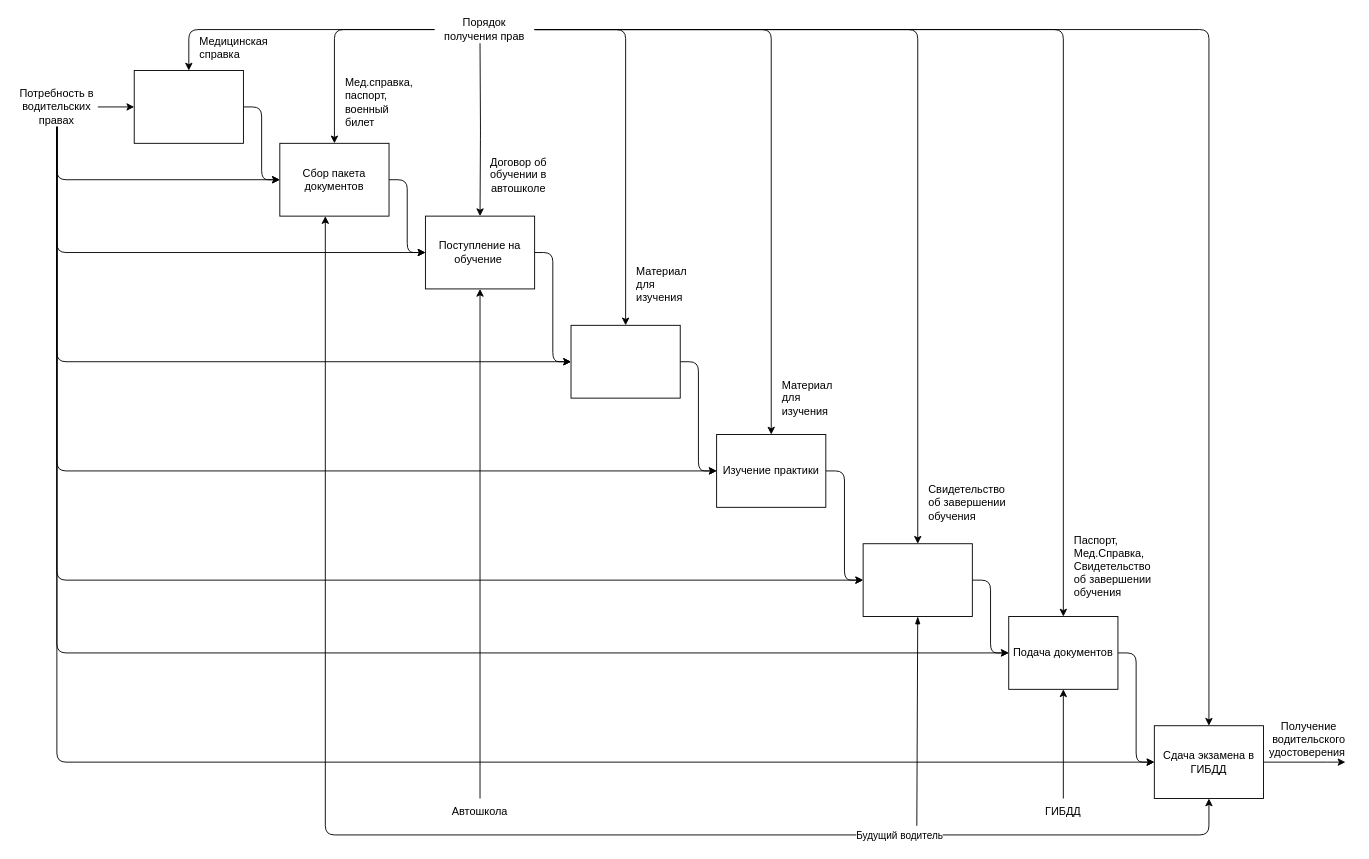
Some shapes in this 1369 by 859 pixel diagram are drawn without their labels. The centre of each missing label's shape, as x and y in pixels:
"Изучение теории" belongs at (625,361).
"Проведение медицинского осмотра" belongs at (188,106).
"Сдача теории и практики в Автошколе" belongs at (917,580).
